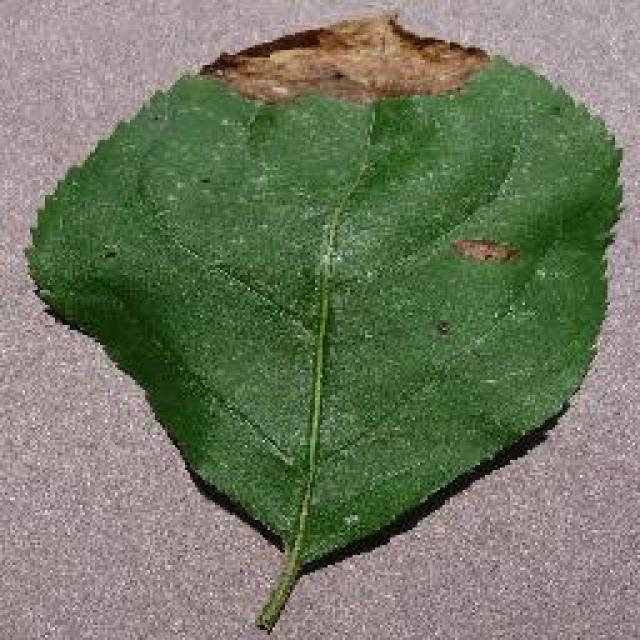apple black rot: (23, 10, 625, 630)
